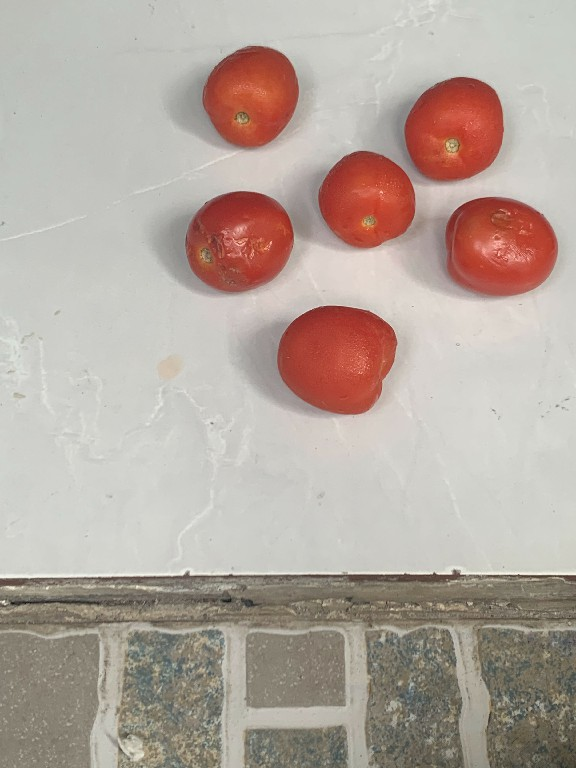NG: (438, 192, 563, 297), (183, 182, 296, 294)
OK: (272, 301, 396, 418), (403, 68, 504, 188), (200, 42, 302, 152), (313, 144, 414, 248)
